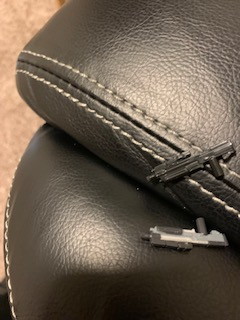rifle: (142, 139, 238, 188), (141, 213, 230, 258)
